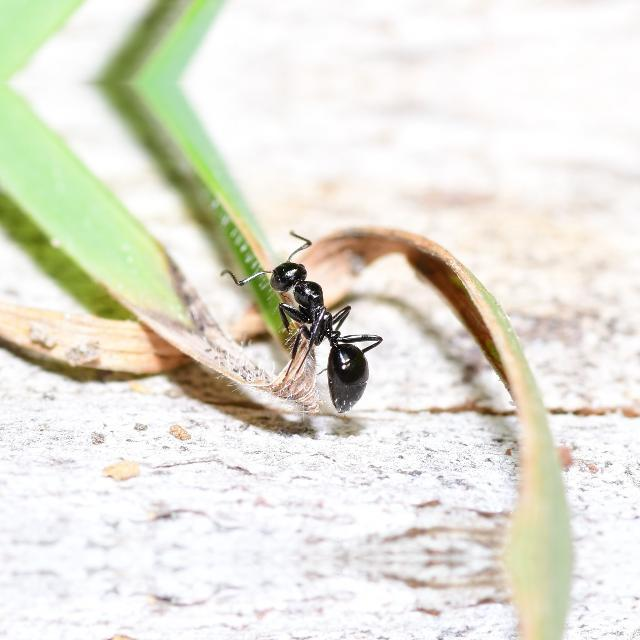Colobopsis: (234, 235, 398, 425)
